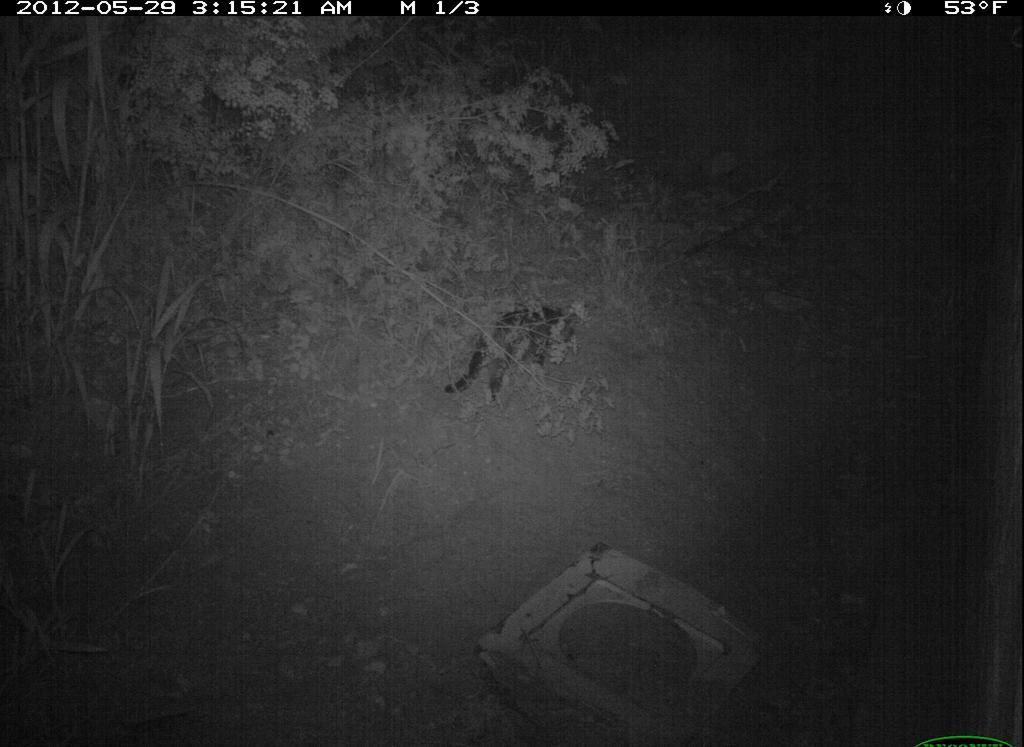cat: (428, 286, 609, 423)
